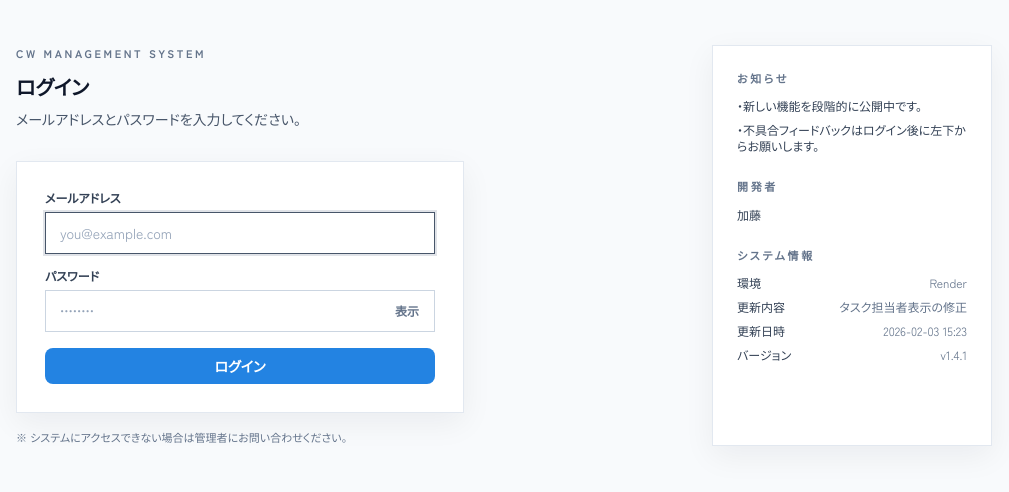
Test: ログインページ › 認証エラー表示中に入力を変更するとエラーをクリアする
Type "admin@example.com" into the field labelled "メールアドレス" at coordinates (240, 233), box [45,212,435,254]
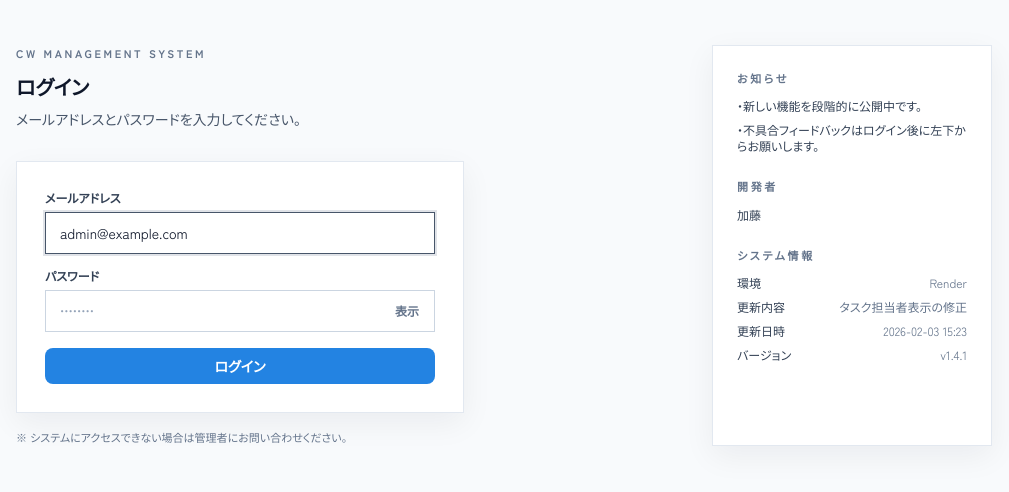
Type "wrong-password" into the password field labelled "パスワード" at coordinates (240, 311), box [45,290,435,332]
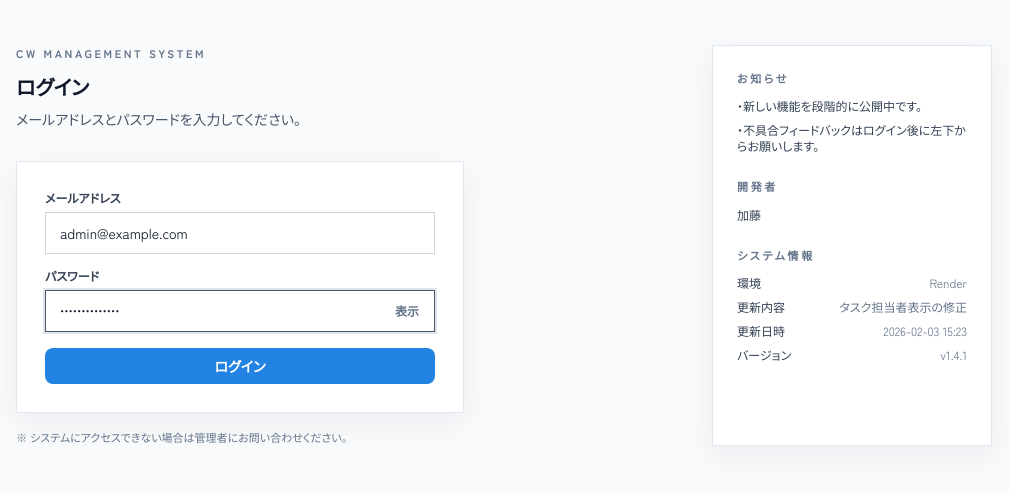
Click the button "ログイン" at coordinates (240, 366), box [45,348,435,384]
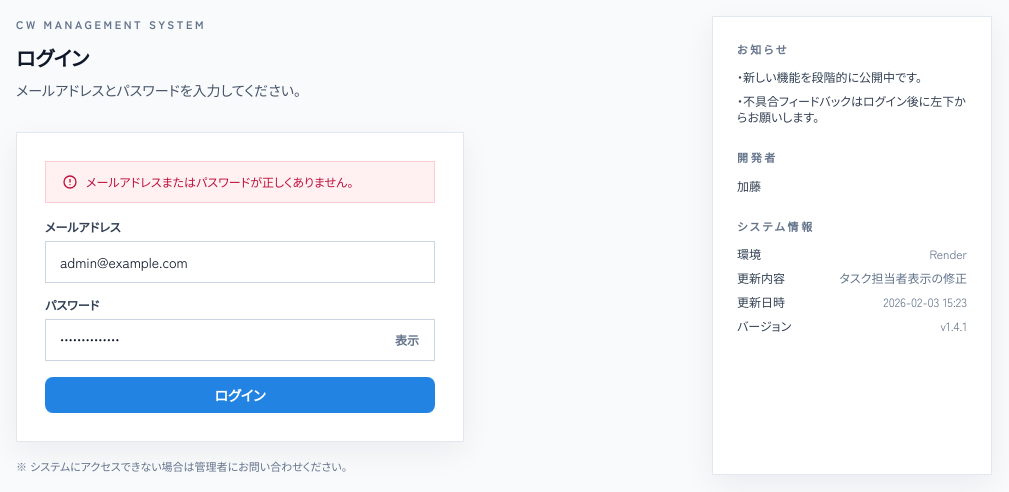
expect the text "メールアドレスまたはパスワードが正しくありません。" is shown: met, box [45,161,435,203]
Type "2" into the field labelled "メールアドレス" at coordinates (240, 262), box [45,241,435,283]
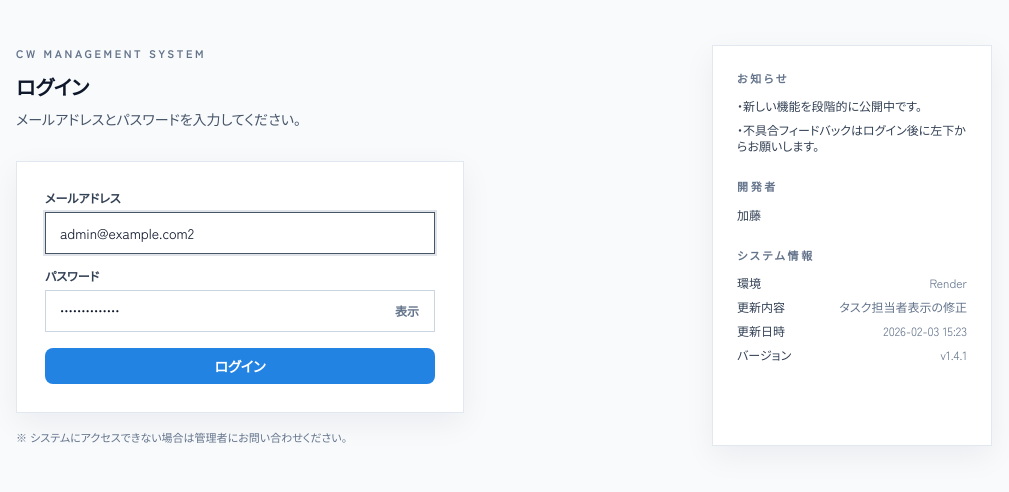
expect the text "メールアドレスまたはパスワードが正しくありません。" is gone: met
